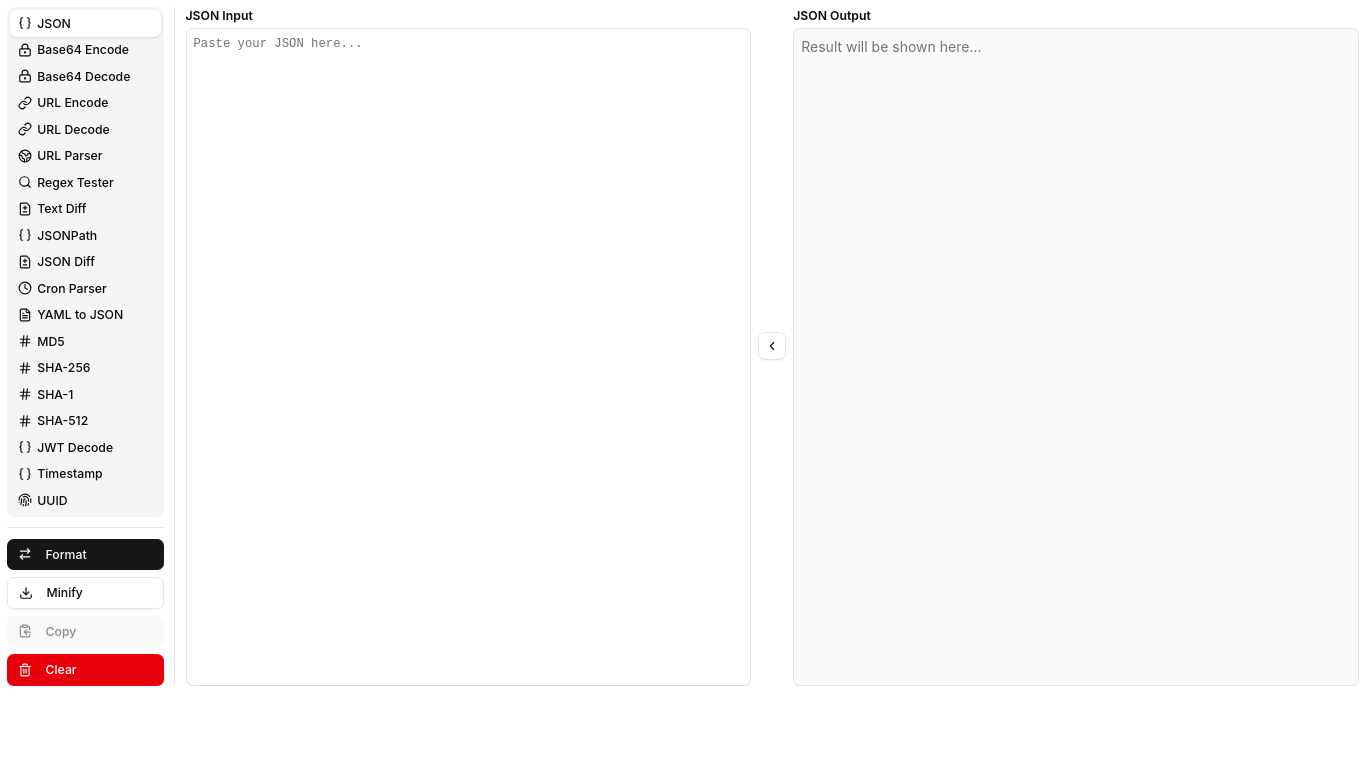
Test: JsonToolsView text tools › uses a compact hash result layout
What coordinates should you click on to do the following:
click the tab "SHA-256"
I would click on:
 (85, 368)
Its box is 10,354 -> 160,381.
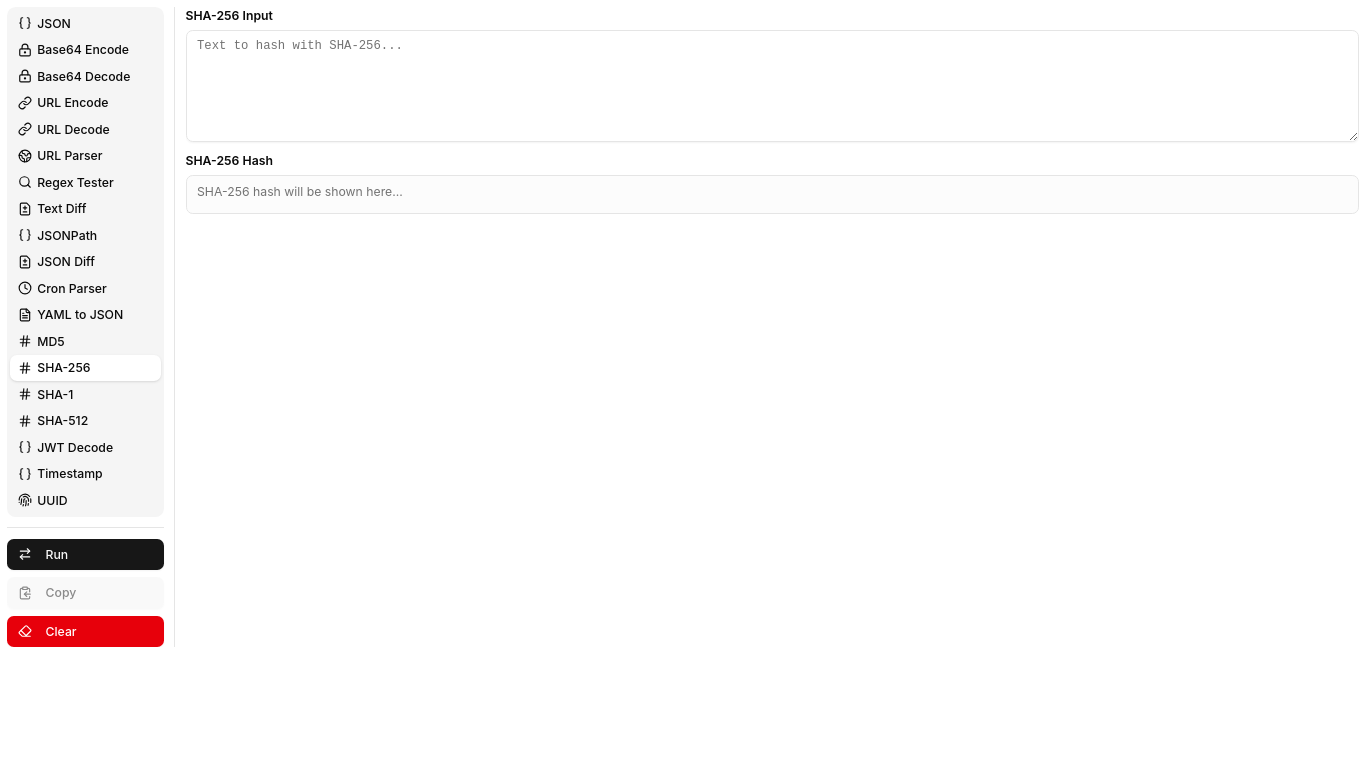
Now the text "SHA-256 Hash" is shown, box 186,153 -> 273,168
Now the text "SHA-256 hash will be shown here..." is shown, box 197,184 -> 403,199
